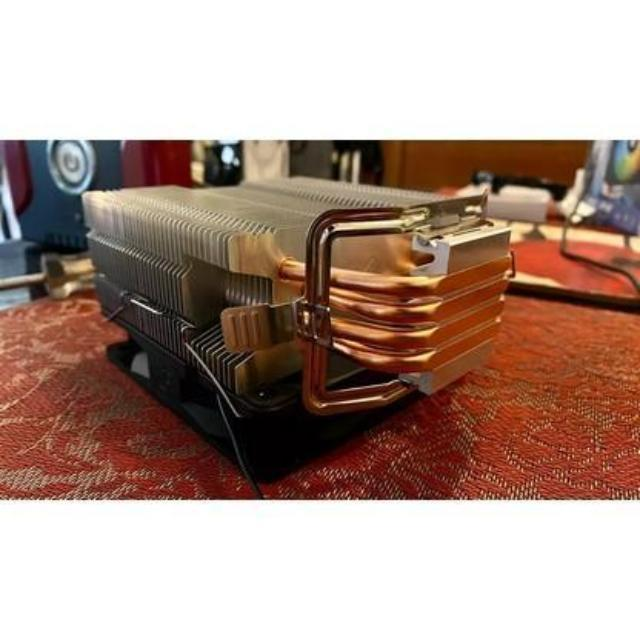CPU_Fan: (69, 171, 520, 489)
